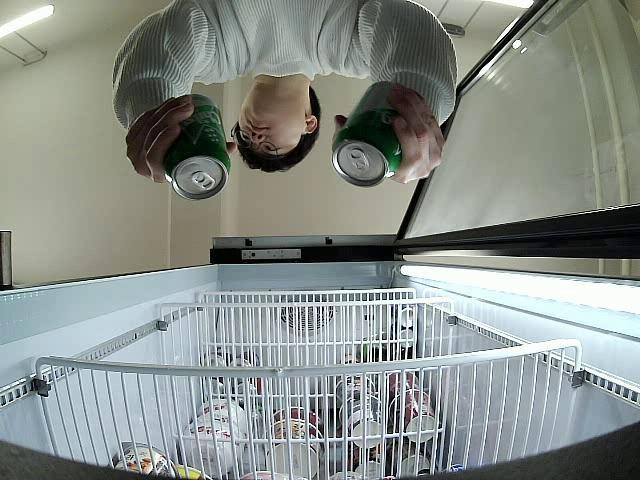12_chilsungCider: (334, 80, 404, 189), (163, 93, 230, 202)
